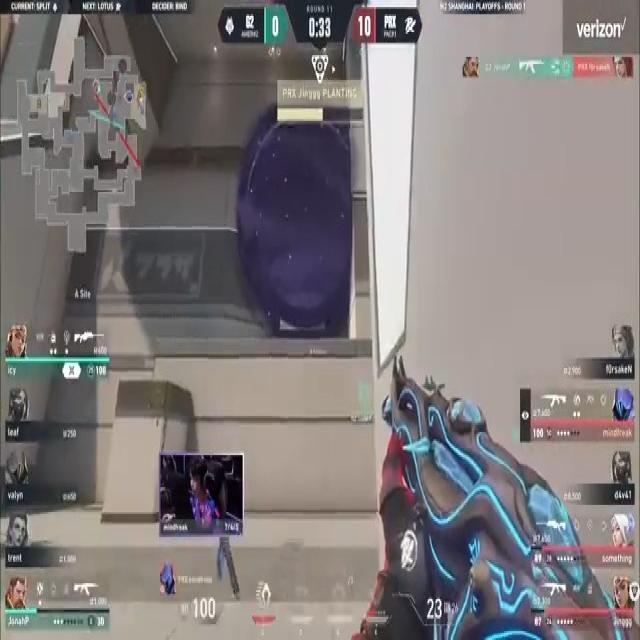smoke: (242, 105, 358, 327)
